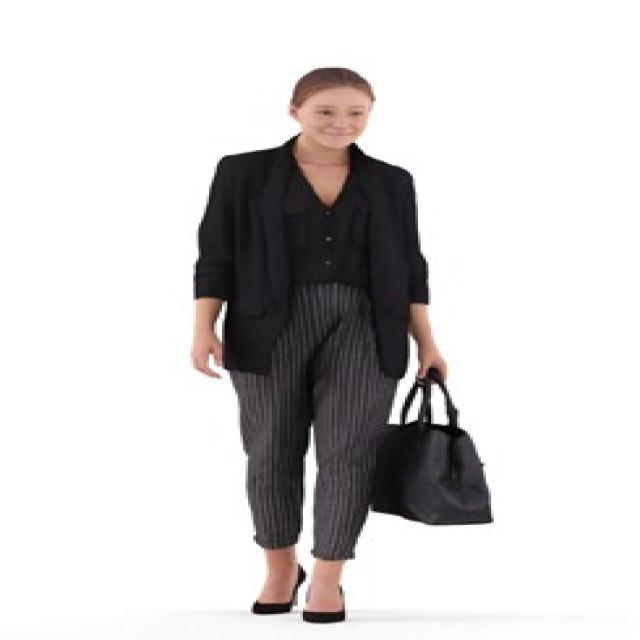standing: (182, 63, 451, 627)
